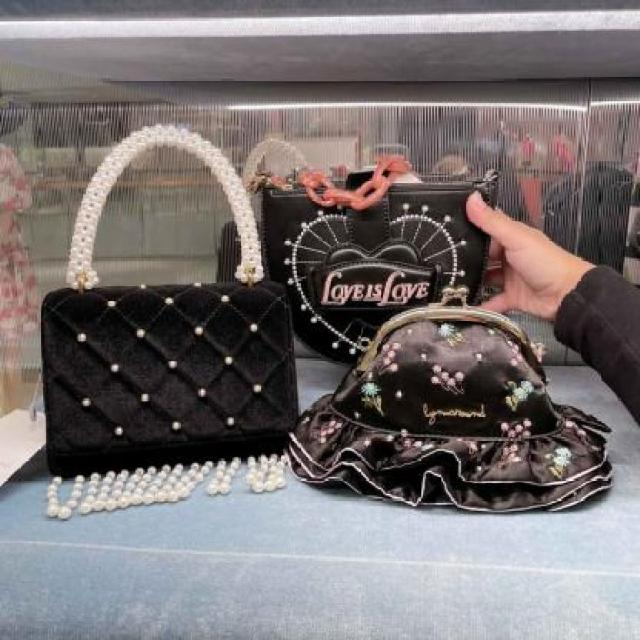Bag: (8, 47, 323, 515), (220, 246, 640, 531), (253, 95, 572, 388)
